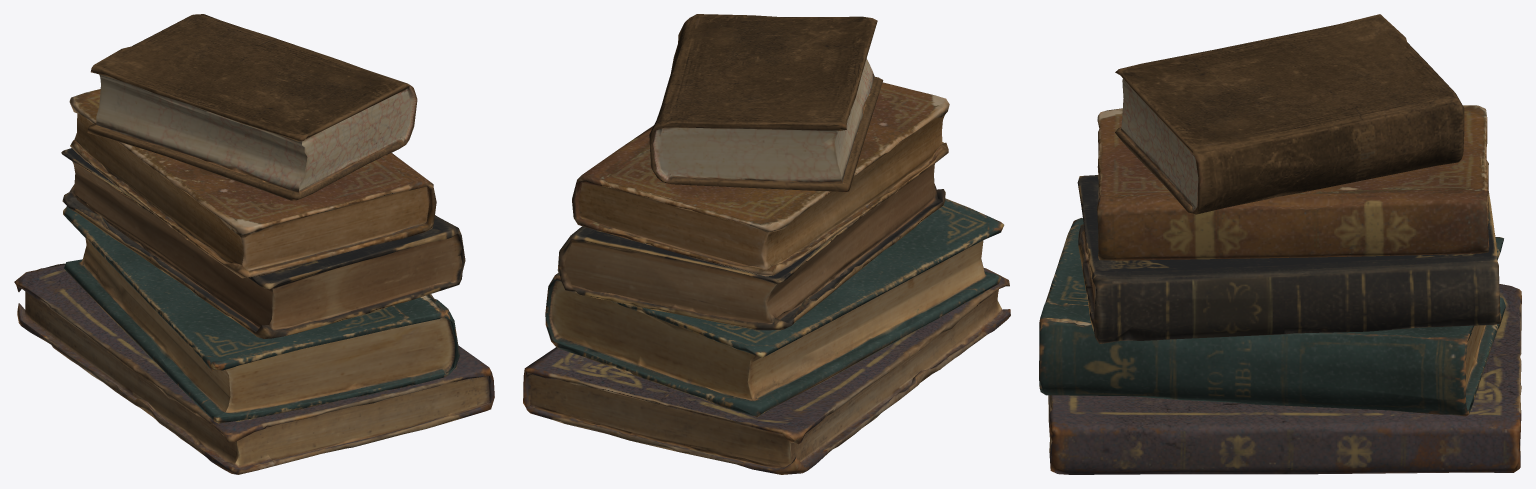
Rendered from SM_Prop_Bookset_D.fbx.
3 views of the same model, side by side, from view 1: azimuth 30°, elevation 25°; view 2: azimuth 150°, elevation 25°; view 3: azimuth 270°, elevation 25° (orthographic). The views are drawn at different scales.
Visible parts, largest first — view 1: SM_Prop_Bookset_D_LOD0; view 2: SM_Prop_Bookset_D_LOD0; view 3: SM_Prop_Bookset_D_LOD0.
Part boxes in pixels (x1,y1,x2,y2): SM_Prop_Bookset_D_LOD0: (14, 14, 494, 474); SM_Prop_Bookset_D_LOD0: (523, 14, 1010, 474); SM_Prop_Bookset_D_LOD0: (1039, 14, 1521, 474).
Bounding box in the file's own units: 26.75 × 37.31 × 28.13.
Materials: 1 (1 with a texture image).
